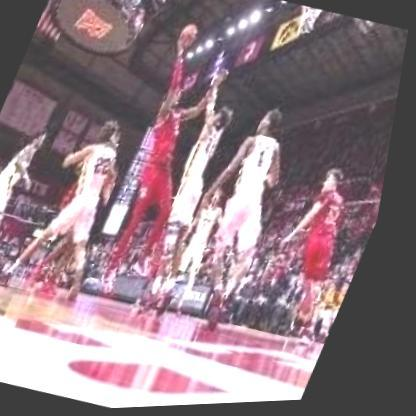basketball: (177, 22, 201, 48)
